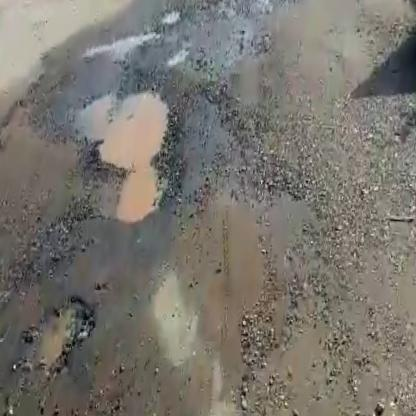pothole: (50, 74, 185, 222), (17, 288, 97, 378), (156, 6, 184, 25)
